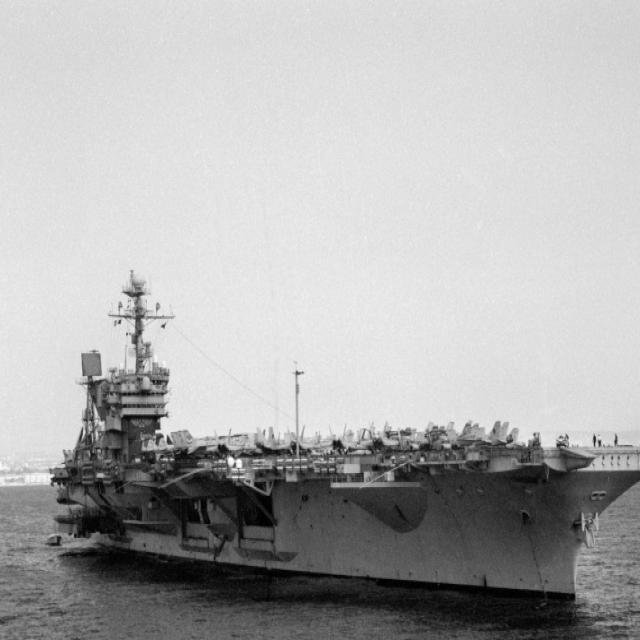Portanaves: (42, 260, 640, 635)
